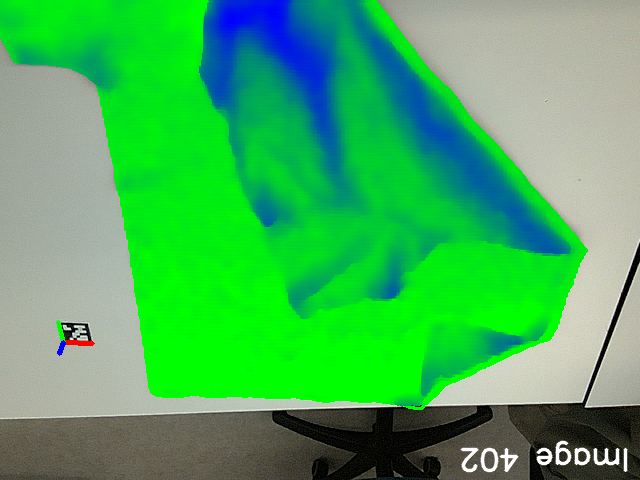V: (282, 283, 341, 327), (418, 308, 465, 348)
